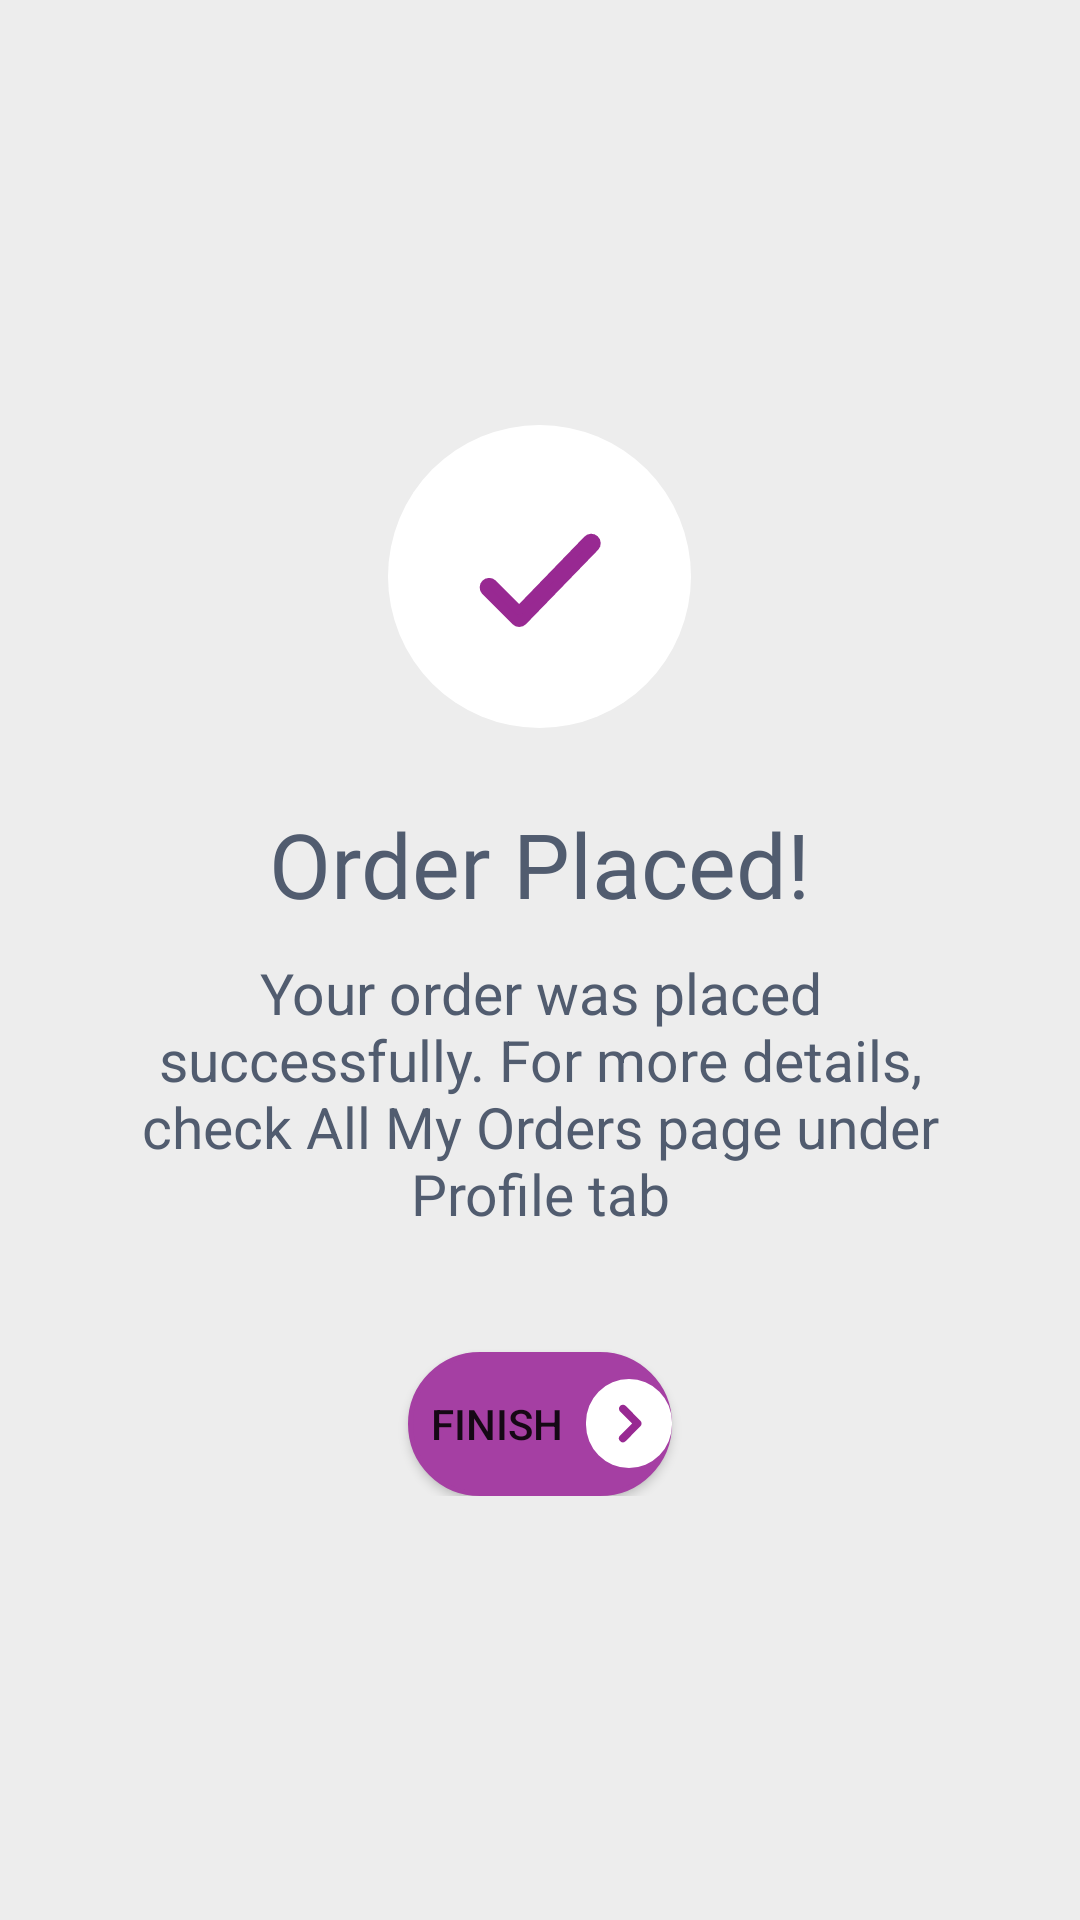

Screen size 1080 × 1920. Icon name, then its box in pixels as [x1, y1, x2, y2]:
success: [388, 425, 691, 728]
